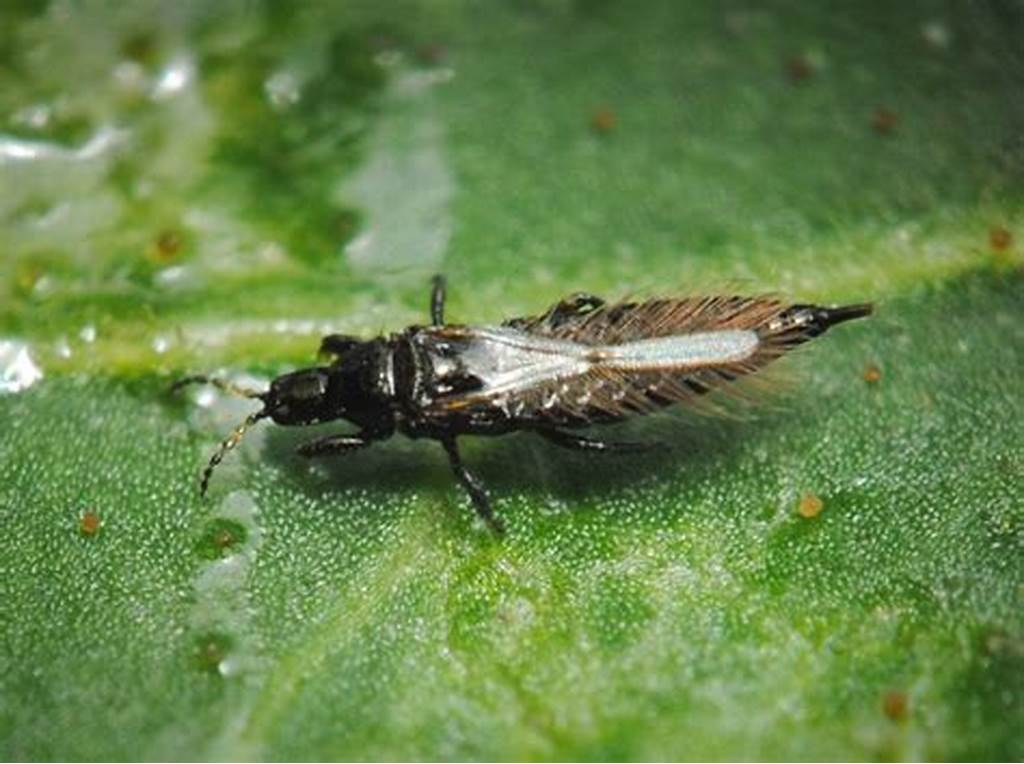Phlaeothripidae: (163, 268, 879, 532)
